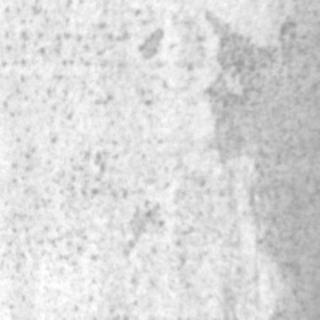pitted_surface: (0, 0, 202, 318), (204, 0, 318, 318)
